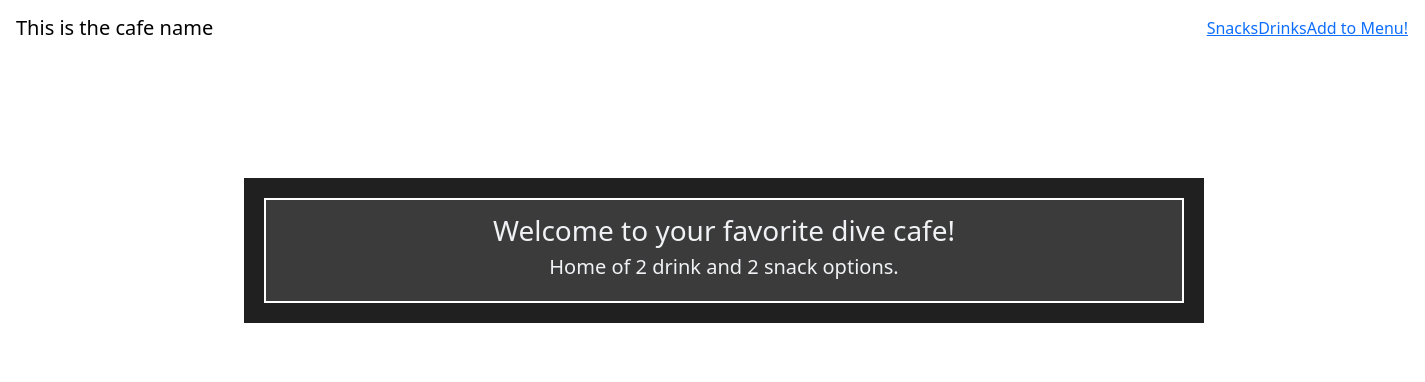
Test case: Cafe routes › renders the drink menu
Expected: the heading "Welcome to your favorite dive cafe!" is shown, [493, 210, 955, 248]
Click the link "Drinks": (1282, 28) [1258, 17, 1307, 39]
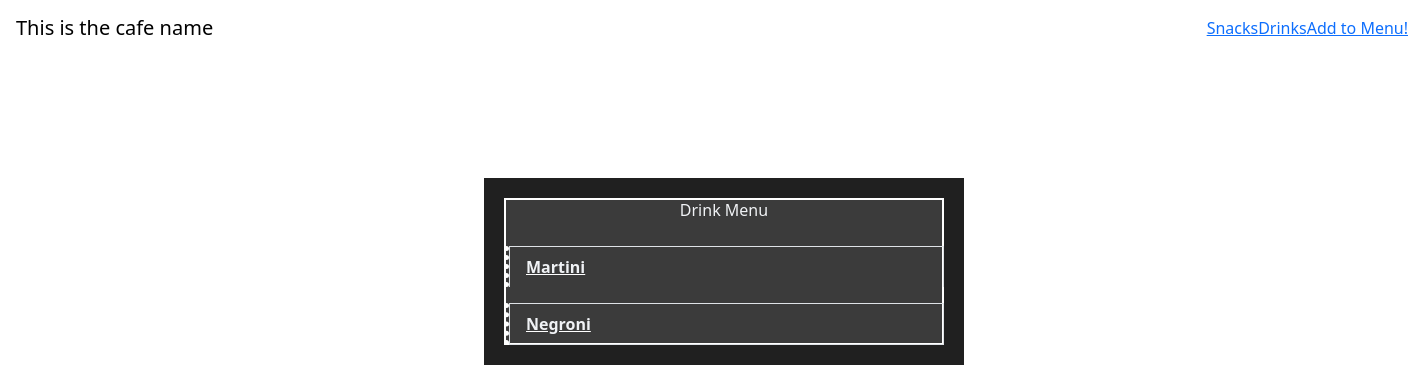
Result: the text "Drink Menu" is shown at [680, 198, 768, 220]
Click the link "This is the cafe name": (115, 28) [16, 8, 213, 48]
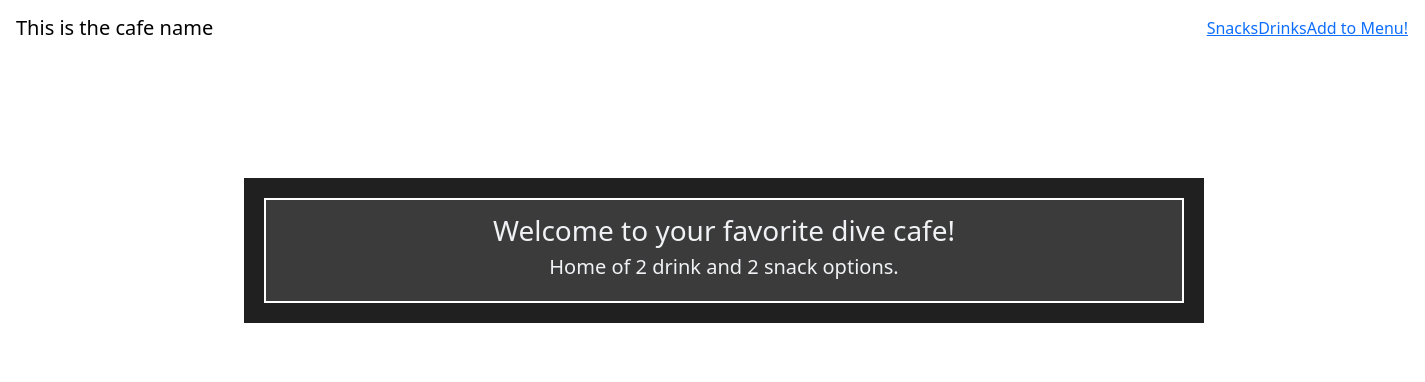
Result: the heading "Welcome to your favorite dive cafe!" is shown at [493, 210, 955, 248]
